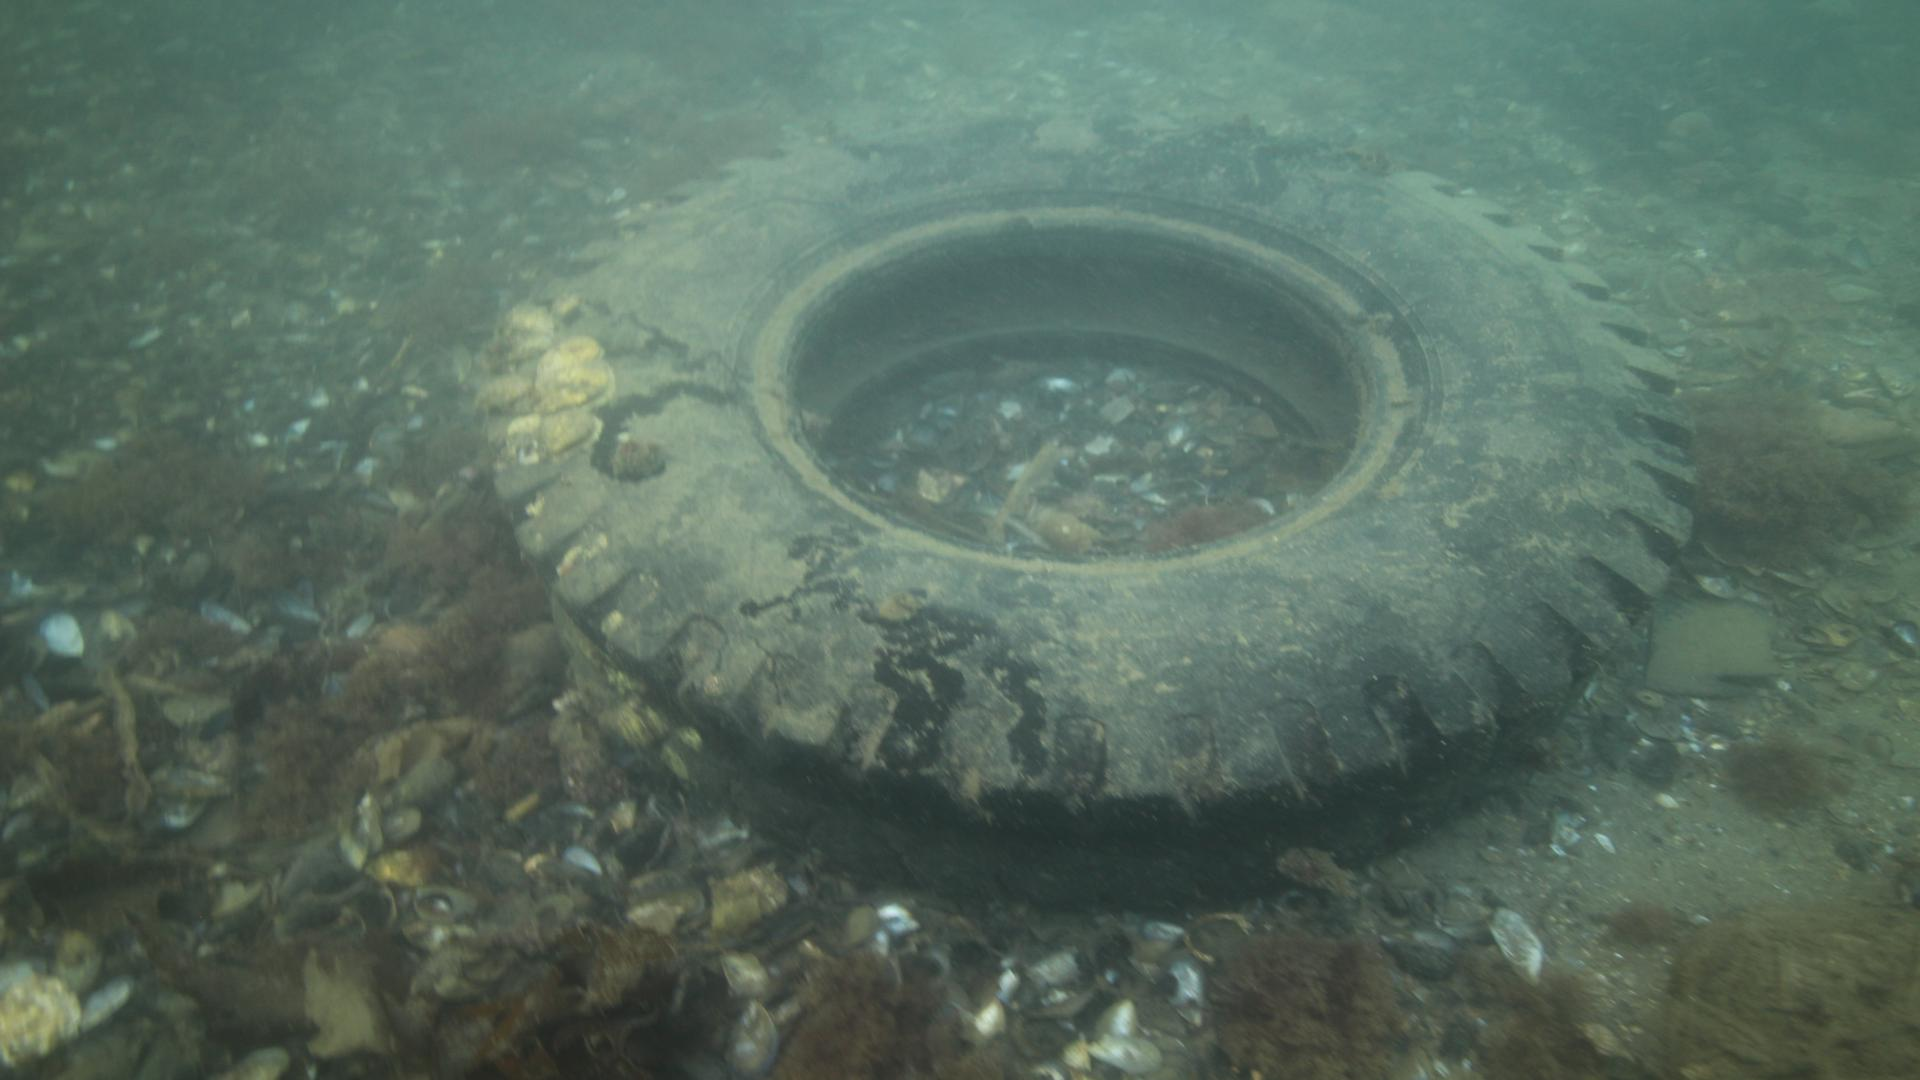tire: (491, 108, 1697, 920)
